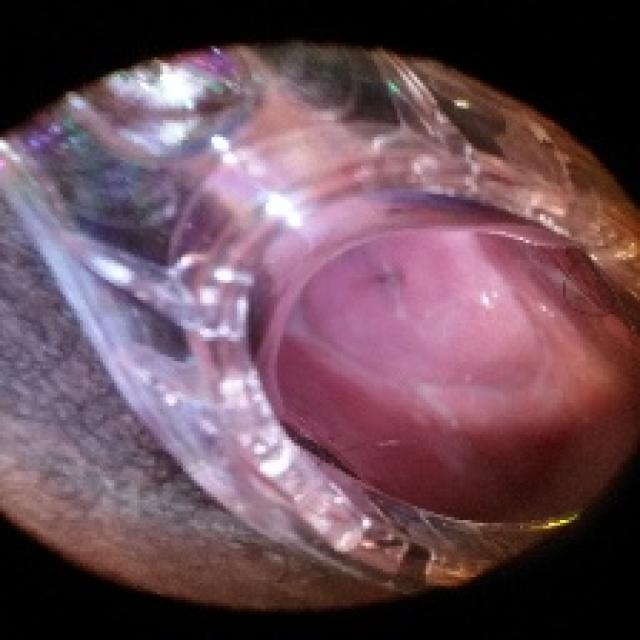type-2: (0, 73, 640, 590)
